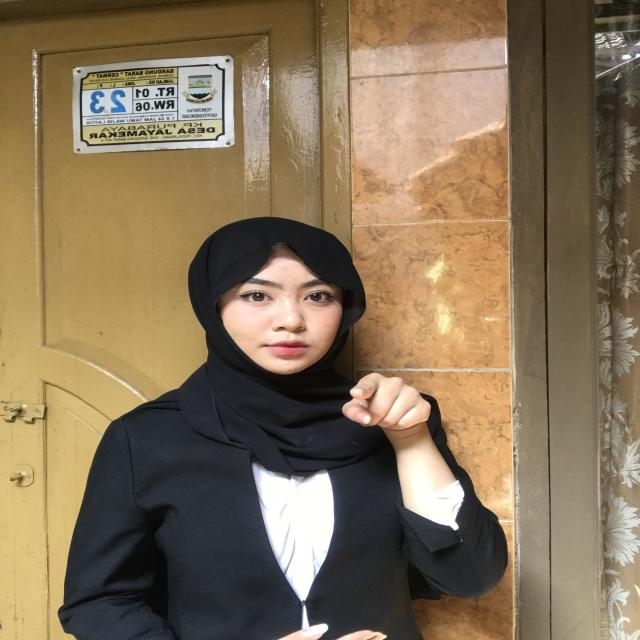kamu: (309, 360, 494, 500)
